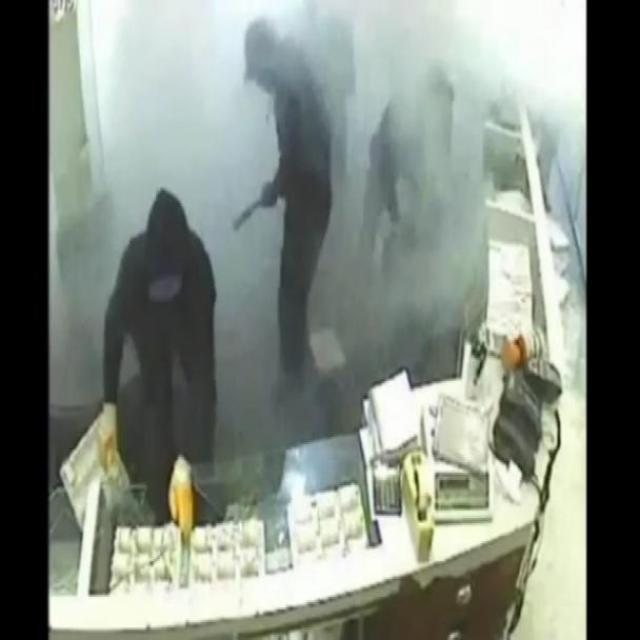Smoke: (334, 10, 474, 362), (107, 5, 285, 206)
